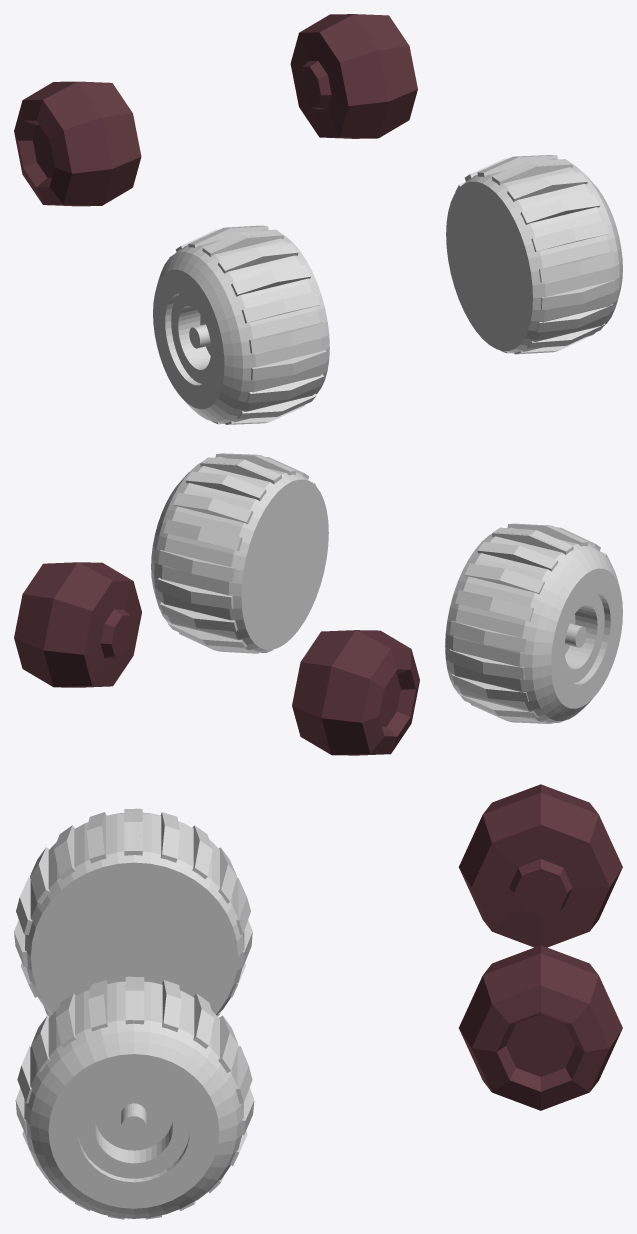
Rendered from Wheels.fbx.
3 renders of one model, top to bottom at view 1: azimuth 30°, elevation 25°; view 2: azimuth 150°, elevation 25°; view 3: azimuth 270°, elevation 25°, orthographic. The views are drawn at different scales.
Parts seen in each view (by area): view 1: Wheel_Front_Left, Wheel_Right_Front.001, scifi-ranger-wheel-FR, scifi-ranger-wheel-FL; view 2: Wheel_Right_Front.001, Wheel_Front_Left, scifi-ranger-wheel-FR, scifi-ranger-wheel-FL; view 3: Wheel_Front_Left, Wheel_Right_Front.001, scifi-ranger-wheel-FL, scifi-ranger-wheel-FR.
Part boxes in pixels (<box>): Wheel_Front_Left: <box>446,155,622,354</box>; Wheel_Right_Front.001: <box>153,225,329,424</box>; scifi-ranger-wheel-FR: <box>14,81,141,206</box>; scifi-ranger-wheel-FL: <box>290,14,417,138</box>; Wheel_Right_Front.001: <box>445,523,622,723</box>; Wheel_Front_Left: <box>151,453,328,653</box>; scifi-ranger-wheel-FR: <box>292,630,419,755</box>; scifi-ranger-wheel-FL: <box>14,562,141,687</box>; Wheel_Front_Left: <box>15,976,254,1219</box>; Wheel_Right_Front.001: <box>14,808,252,1016</box>; scifi-ranger-wheel-FL: <box>459,945,622,1110</box>; scifi-ranger-wheel-FR: <box>459,784,622,947</box>.
Size of the model in its own units: 669 by 334 by 744.
